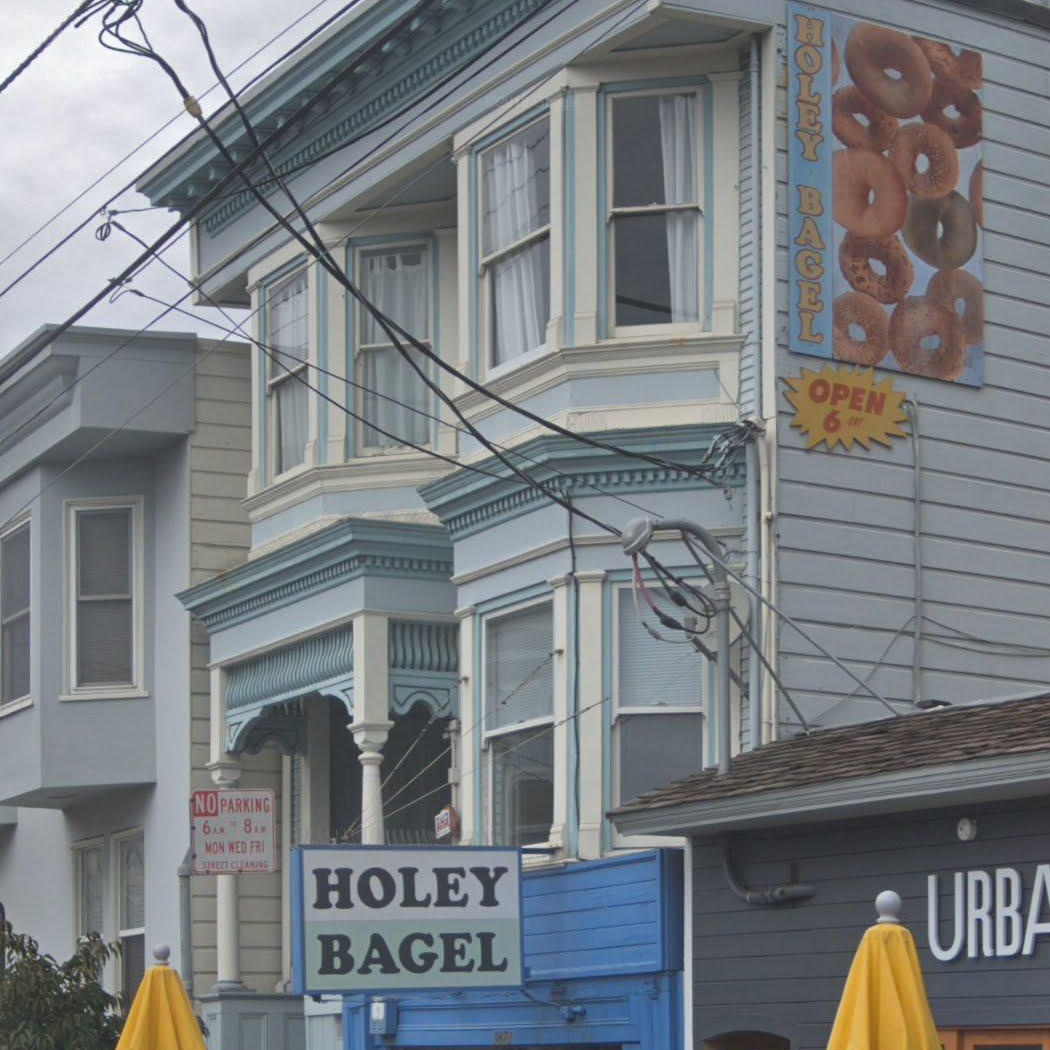No Parking: (189, 787, 278, 877)
